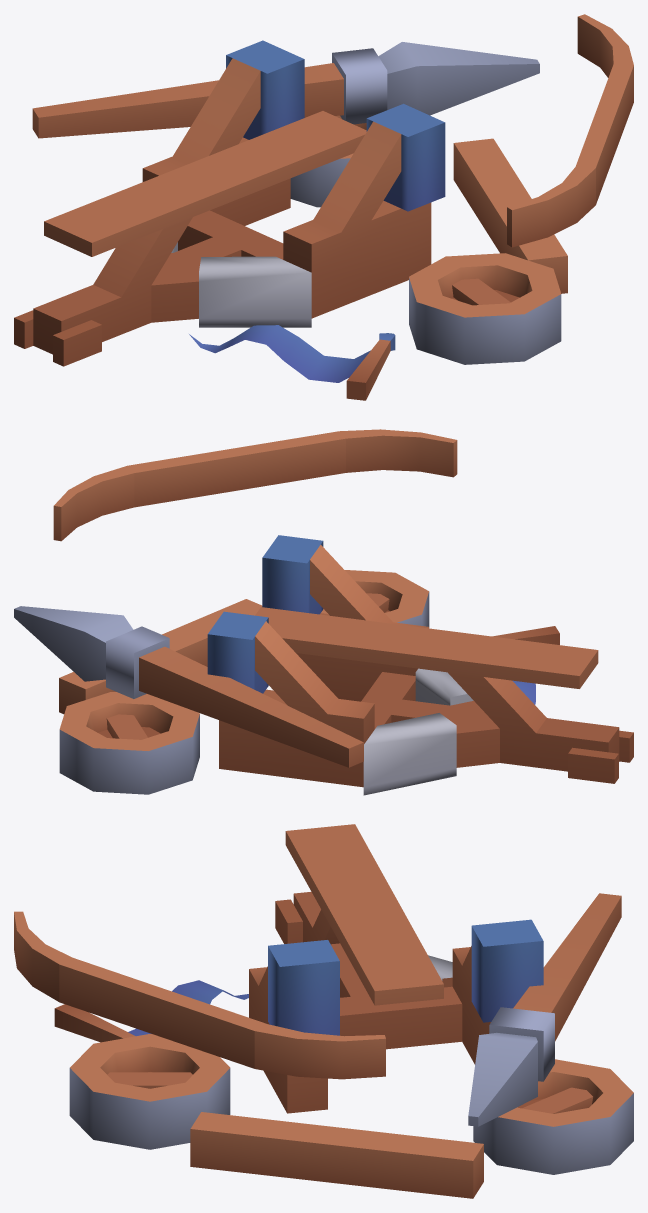
Rendered from siege-ballista-demolished.glb.
3 views of the same model, one above another, from view 1: azimuth 30°, elevation 25°; view 2: azimuth 150°, elevation 25°; view 3: azimuth 270°, elevation 25° (orthographic). The views are drawn at different scales.
Parts seen in each view (by area): view 1: siege-ballista-demolished; view 2: siege-ballista-demolished; view 3: siege-ballista-demolished.
Part boxes in pixels (x1=…): siege-ballista-demolished: x1=14, y1=14, x2=633, y2=400; siege-ballista-demolished: x1=14, y1=429, x2=633, y2=795; siege-ballista-demolished: x1=14, y1=824, x2=633, y2=1198.
Size of the model in its own units: 1.75 by 0.5097 by 1.55.
